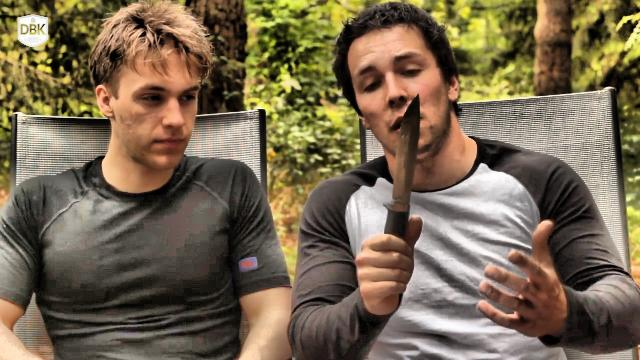knife: (354, 81, 426, 288)
